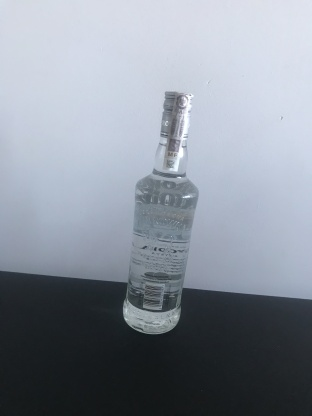nakretka: (158, 86, 196, 142)
